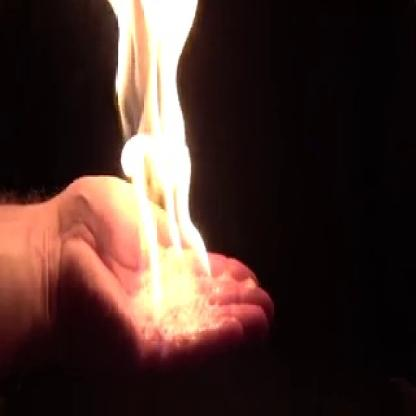fire: (99, 0, 211, 304)
